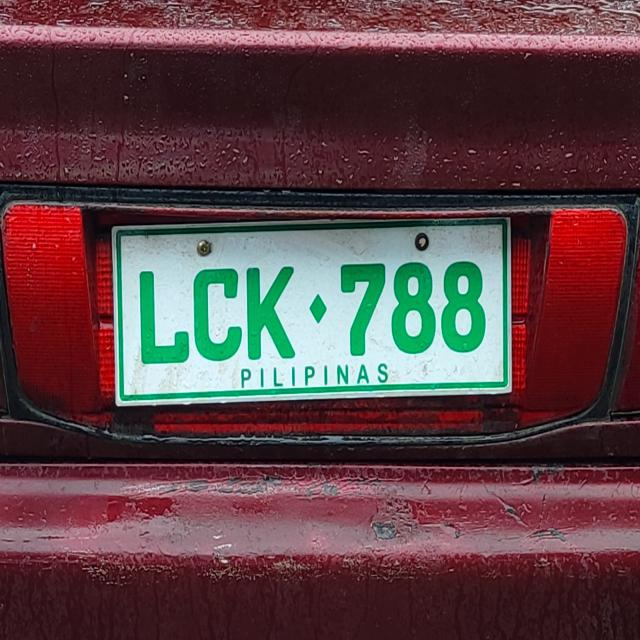plate: (108, 210, 518, 412)
